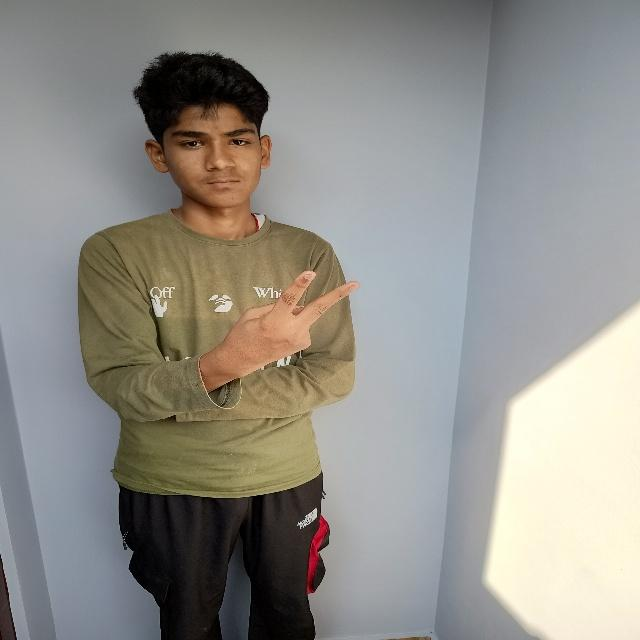Reversed Victory: (224, 264, 364, 381)
